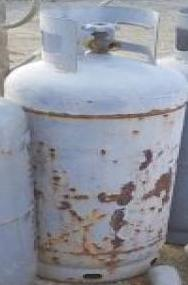cylinder: (0, 1, 188, 285)
